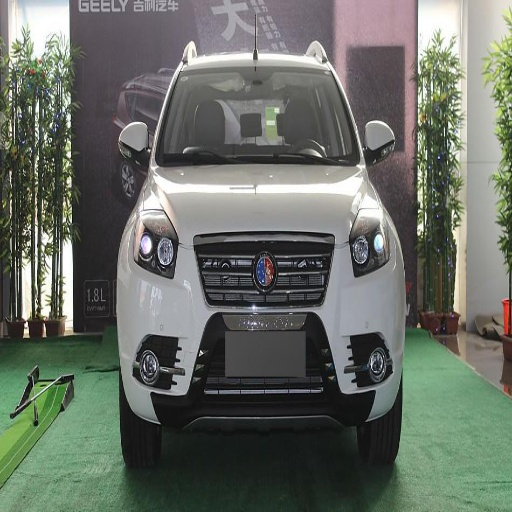front_bumper: (121, 232, 407, 424)
front_right_light: (133, 209, 177, 277)
hood: (155, 165, 375, 241)
left_mirror: (365, 121, 396, 163)
